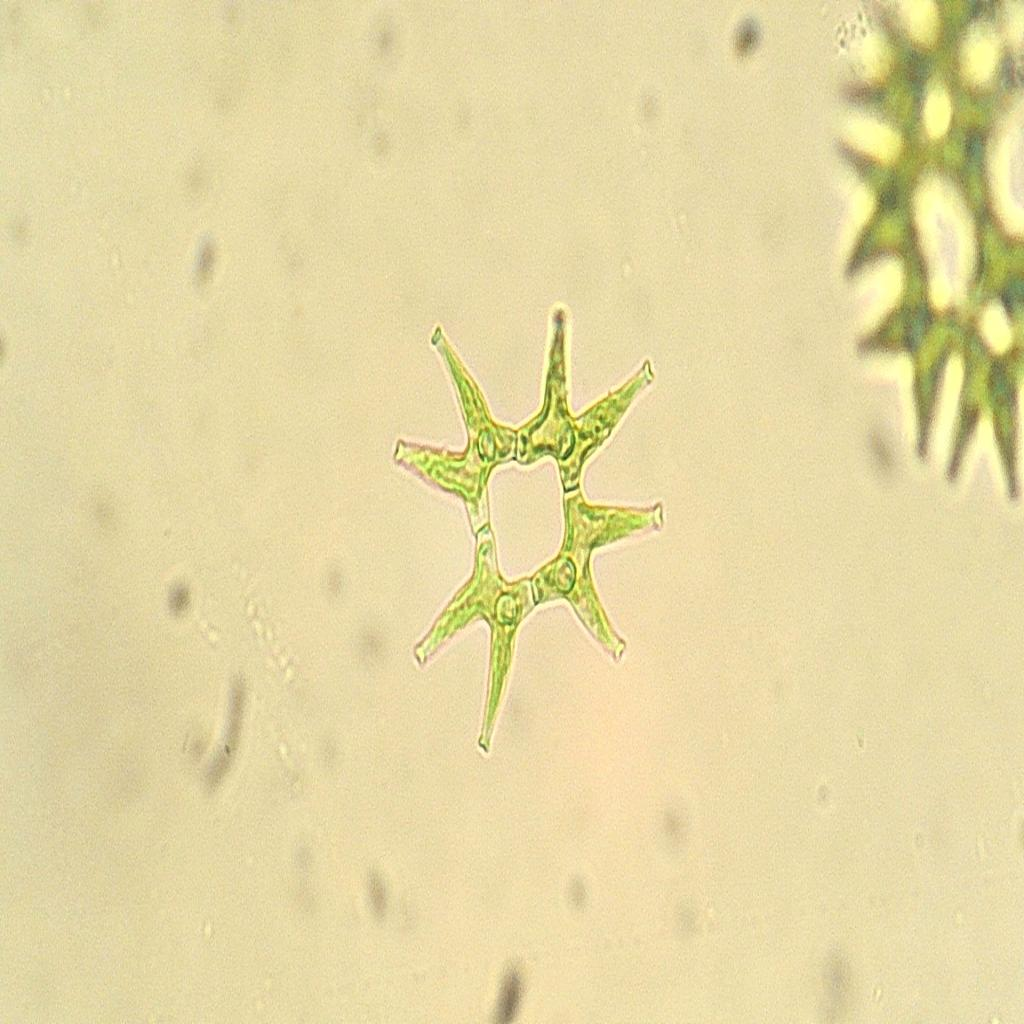Pediastrum_10: (385, 266, 678, 766)
